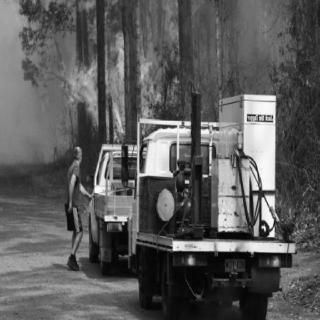Fire: (59, 1, 127, 143), (139, 48, 161, 136), (163, 3, 179, 117), (39, 58, 53, 110)
Smoke: (1, 81, 30, 158)
other: (174, 253, 204, 267), (106, 216, 122, 236)
